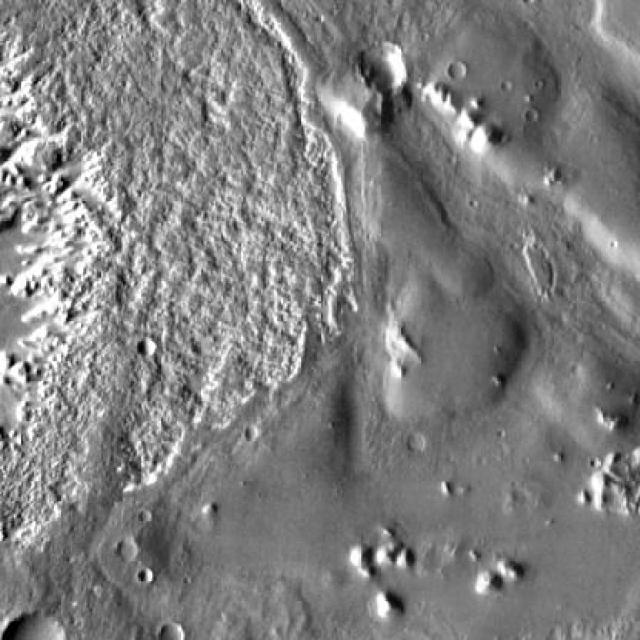crater: (0, 0, 349, 537), (356, 36, 409, 89), (0, 612, 66, 640), (118, 540, 142, 562), (159, 620, 181, 640), (138, 340, 156, 357), (450, 61, 467, 78), (138, 570, 154, 585)
